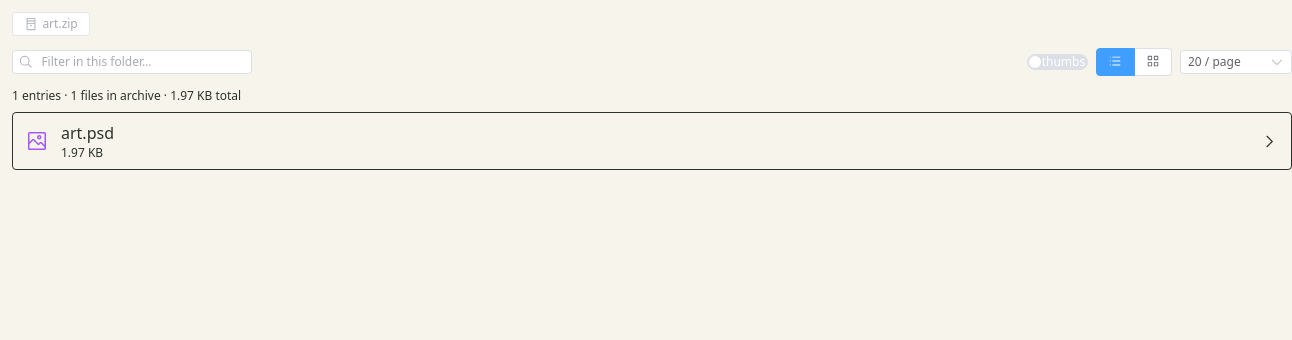
Test: TarBrowserPanel · psd member of a zip › asks for the password when the member needs one
Click the element with class "cursor-pointer".
click(88, 133)  # box [13,113,1291,169]
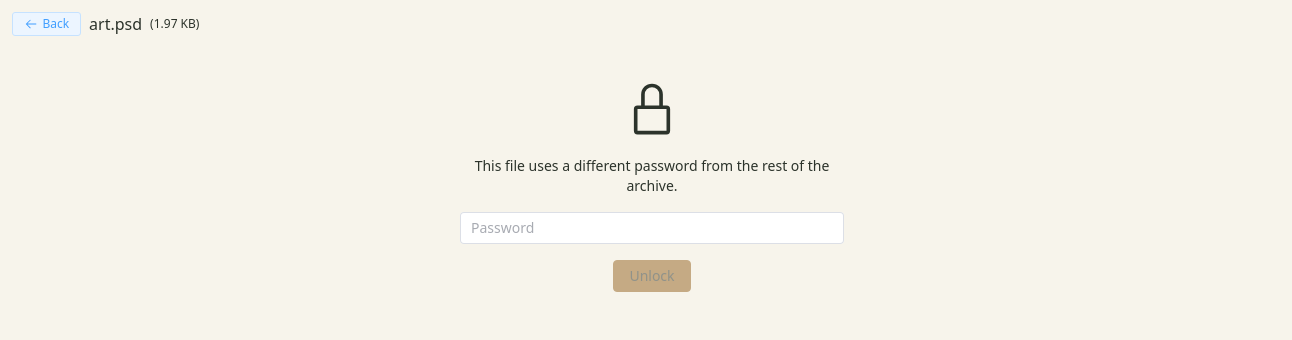
Check: the form with test id "zip-password-form" is shown, box [460,48,844,324]
